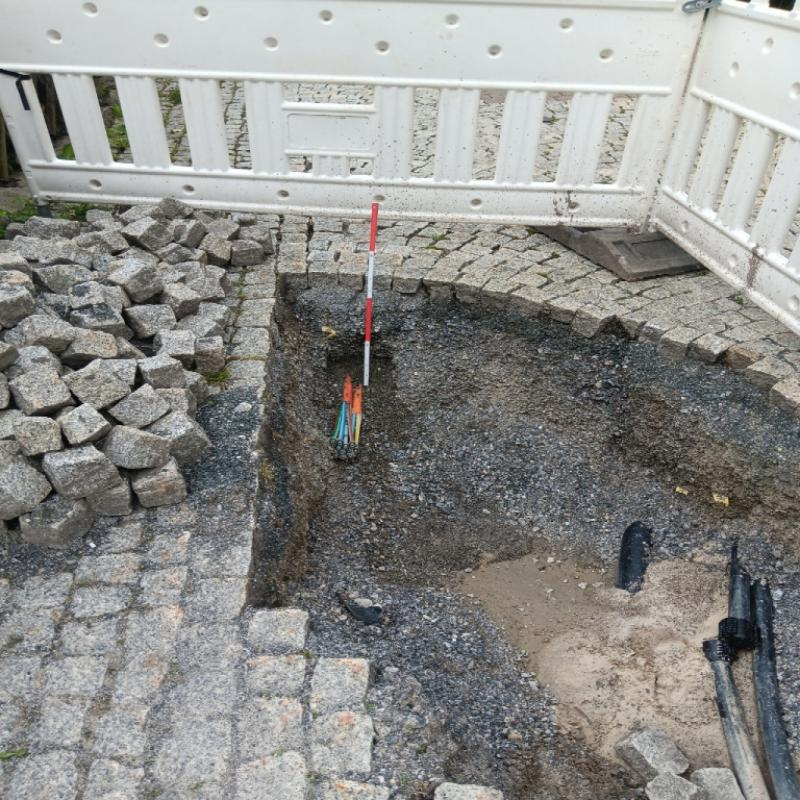Orang-Speednetrohrchen: (322, 377, 362, 462)
